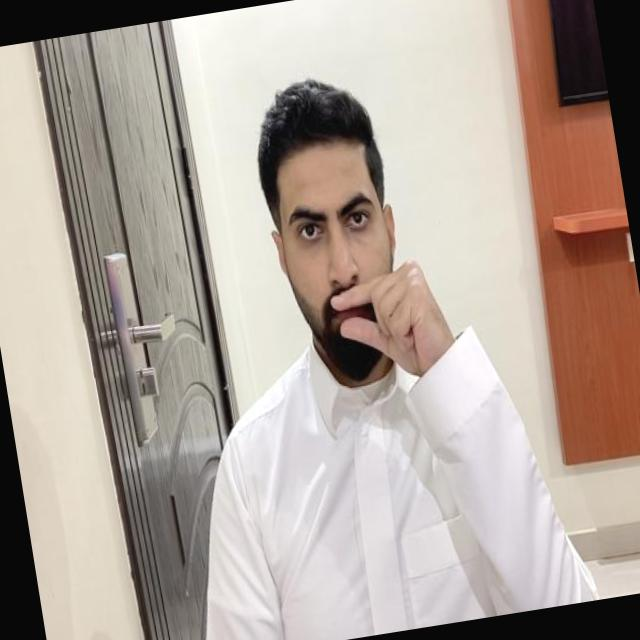fasting: (324, 253, 460, 389)
